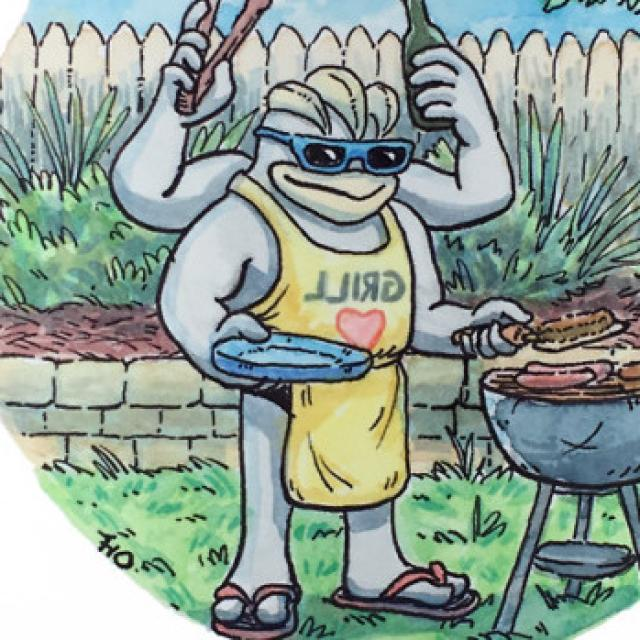Machamp: (58, 44, 534, 628)
